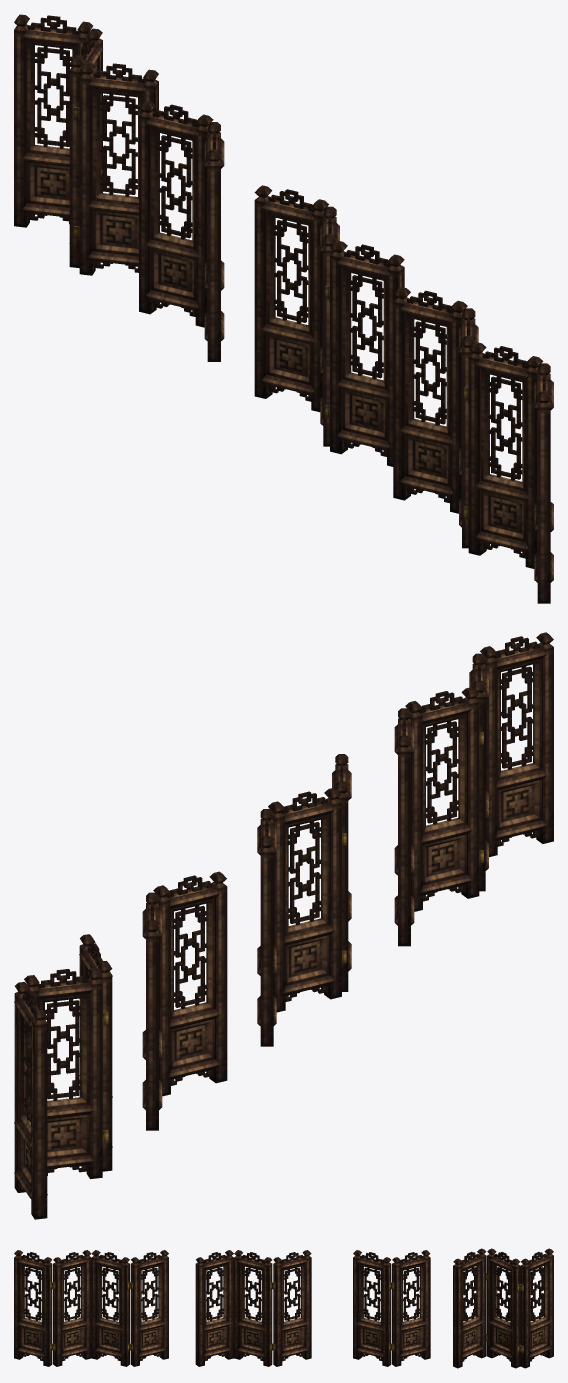
File: EnvObjMD_Screen_A_4W_30A.FBX
The picture shows the model from 3 angles, top to bottom: view 1: azimuth 30°, elevation 25°; view 2: azimuth 150°, elevation 25°; view 3: azimuth 270°, elevation 25°; orthographic projection. The views are drawn at different scales.
Visible parts, largest first — view 1: EnvObjMD_Screen_A_4W_30A, EnvObjMD_Screen_A_3W_30A, EnvObjMD_Screen_A_3W_45A, EnvObjMD_Screen_A_2W_30A; view 2: EnvObjMD_Screen_A_4W_30A, EnvObjMD_Screen_A_3W_45A, EnvObjMD_Screen_A_3W_30A, EnvObjMD_Screen_A_2W_30A; view 3: EnvObjMD_Screen_A_4W_30A, EnvObjMD_Screen_A_3W_30A, EnvObjMD_Screen_A_3W_45A, EnvObjMD_Screen_A_2W_30A.
Boxes of the visible parts, bbox=[...] form: EnvObjMD_Screen_A_4W_30A: bbox=[393, 287, 553, 603]; EnvObjMD_Screen_A_3W_30A: bbox=[254, 185, 404, 466]; EnvObjMD_Screen_A_3W_45A: bbox=[14, 14, 158, 275]; EnvObjMD_Screen_A_2W_30A: bbox=[139, 100, 224, 361]; EnvObjMD_Screen_A_4W_30A: bbox=[394, 632, 553, 946]; EnvObjMD_Screen_A_3W_45A: bbox=[14, 934, 112, 1219]; EnvObjMD_Screen_A_3W_30A: bbox=[257, 754, 351, 1046]; EnvObjMD_Screen_A_2W_30A: bbox=[142, 871, 227, 1130]; EnvObjMD_Screen_A_4W_30A: bbox=[14, 1250, 168, 1366]; EnvObjMD_Screen_A_3W_30A: bbox=[195, 1250, 311, 1366]; EnvObjMD_Screen_A_3W_45A: bbox=[453, 1248, 553, 1368]; EnvObjMD_Screen_A_2W_30A: bbox=[353, 1250, 430, 1366].
Bounding box in the file's own units: 98.99 × 355 × 1601.
